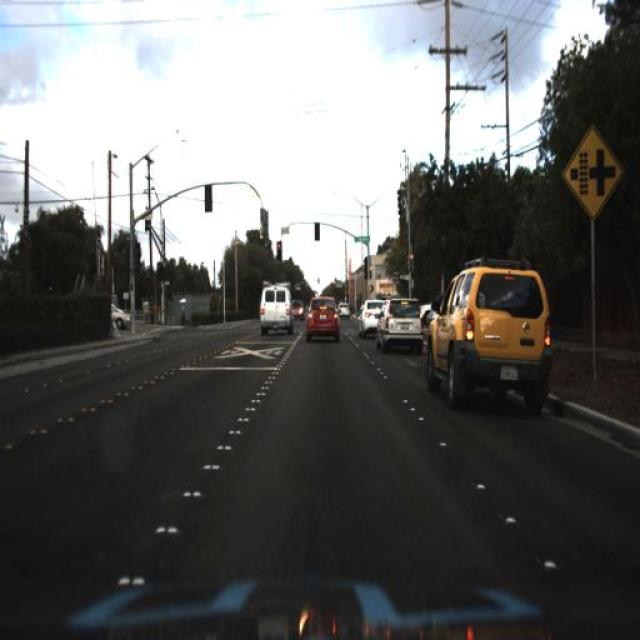car: (427, 260, 554, 410), (380, 292, 426, 358), (297, 292, 349, 348), (256, 280, 296, 335), (360, 296, 379, 342), (105, 301, 131, 333), (290, 292, 308, 326)
trafficLight-Green: (314, 213, 322, 245), (274, 236, 284, 260)
trafficLight-RedLeft: (368, 258, 377, 286)
